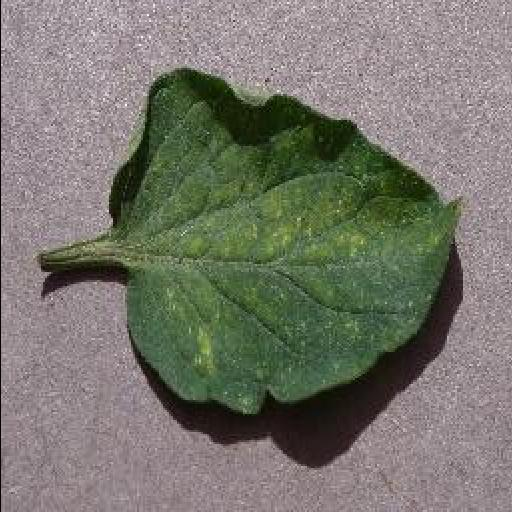disease_tomato: (109, 64, 467, 420)
